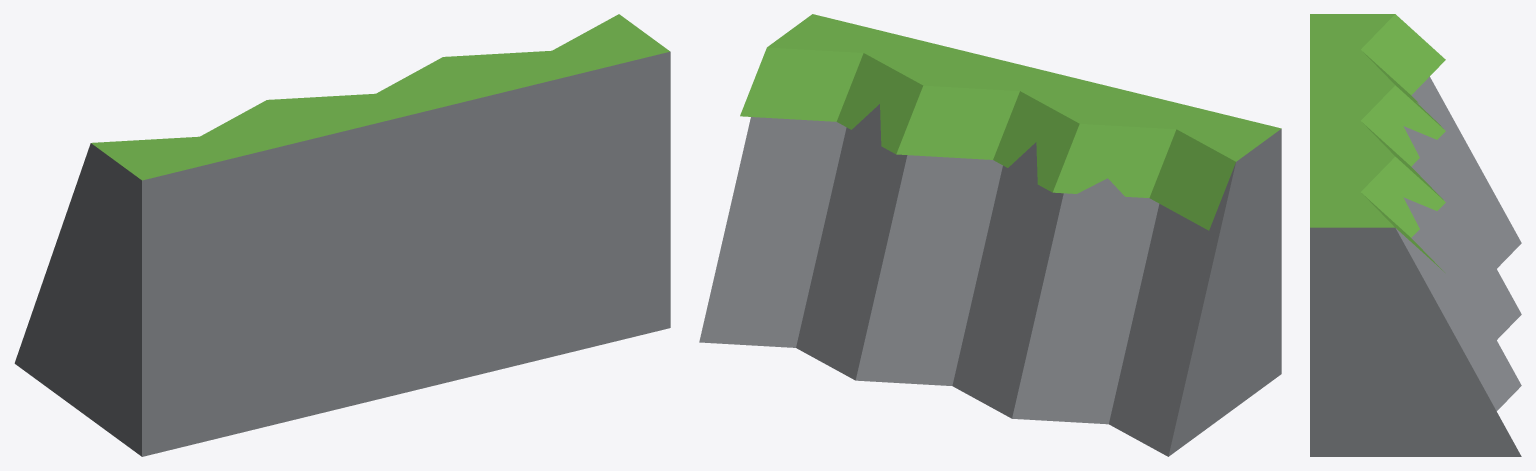
The model's file is cliff_half_rock.glb.
The picture shows the model from 3 angles, left to right: view 1: azimuth 30°, elevation 25°; view 2: azimuth 150°, elevation 25°; view 3: azimuth 270°, elevation 25°; orthographic projection. The views are drawn at different scales.
Parts seen in each view (by area): view 1: cliff_half_rock; view 2: cliff_half_rock; view 3: cliff_half_rock.
Part boxes in pixels (bbox=[...]): cliff_half_rock: bbox=[14, 14, 670, 456]; cliff_half_rock: bbox=[699, 14, 1281, 456]; cliff_half_rock: bbox=[1310, 14, 1521, 456].
Size of the model in its own units: 1 by 0.5 by 0.4185.
